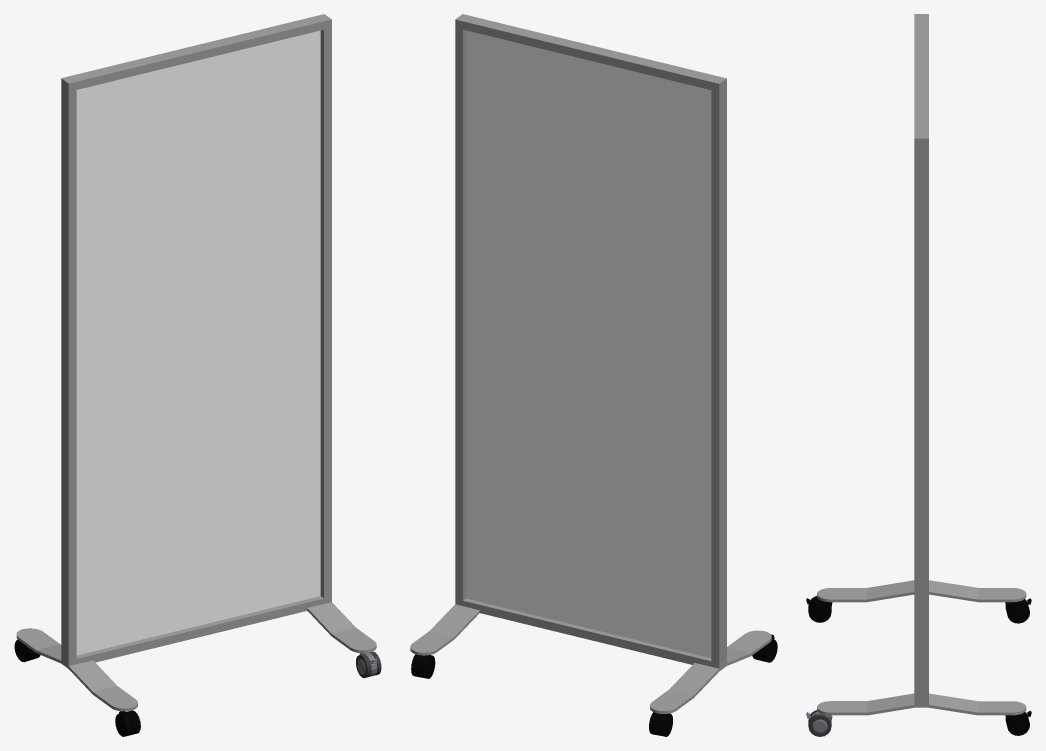
Rendered from 302_whiteboard.glb.
The picture shows the model from 3 angles, left to right: view 1: azimuth 30°, elevation 25°; view 2: azimuth 150°, elevation 25°; view 3: azimuth 270°, elevation 25°; orthographic projection. The views are drawn at different scales.
Parts seen in each view (by area): view 1: whiteboard original; view 2: whiteboard original; view 3: whiteboard original, wheel.001, wheel.003, wheel.004, wheel.002.
Part boxes in pixels (x1,y1,x2,y2): whiteboard original: (16,14,376,711); whiteboard original: (410,14,771,713); whiteboard original: (817,14,1026,715); wheel.001: (806,710,832,736); wheel.003: (806,596,832,622); wheel.004: (1005,598,1031,623); wheel.002: (1005,711,1031,735).
Bounding box in the file's own units: 1075 × 2411 × 820.
Materials: 5 (5 with a texture image).
